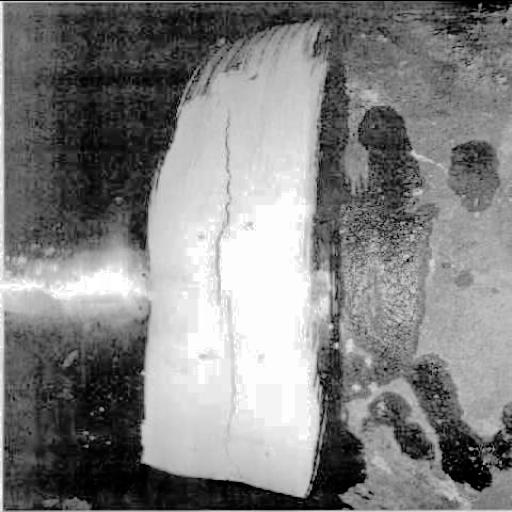crack: (215, 111, 231, 300)
